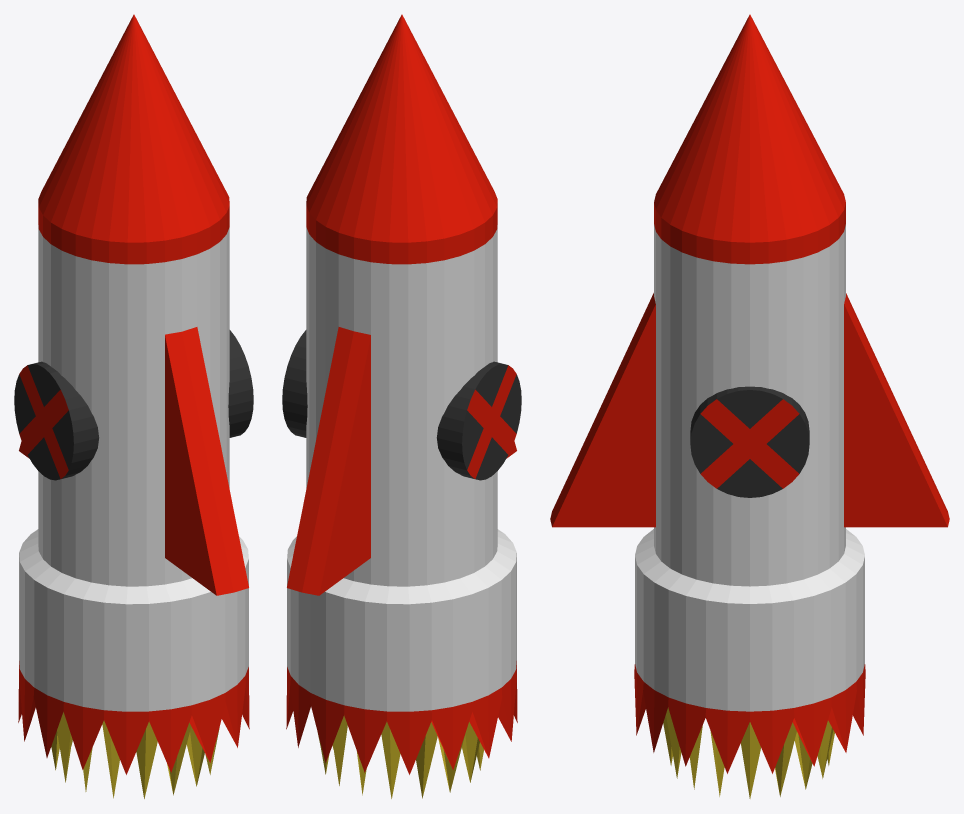
The model's file is Rocket_model.fbx.
3 renders of one model, left to right at view 1: azimuth 30°, elevation 25°; view 2: azimuth 150°, elevation 25°; view 3: azimuth 270°, elevation 25°, orthographic.
Visible parts, largest first — view 1: Rocket_model; view 2: Rocket_model; view 3: Rocket_model.
Part boxes in pixels (left/top/right/bottom): Rocket_model: left=14, top=14, right=253, bottom=798; Rocket_model: left=282, top=14, right=521, bottom=798; Rocket_model: left=550, top=14, right=949, bottom=798.
Bounding box in the file's own units: 89.19 × 320 × 154.
